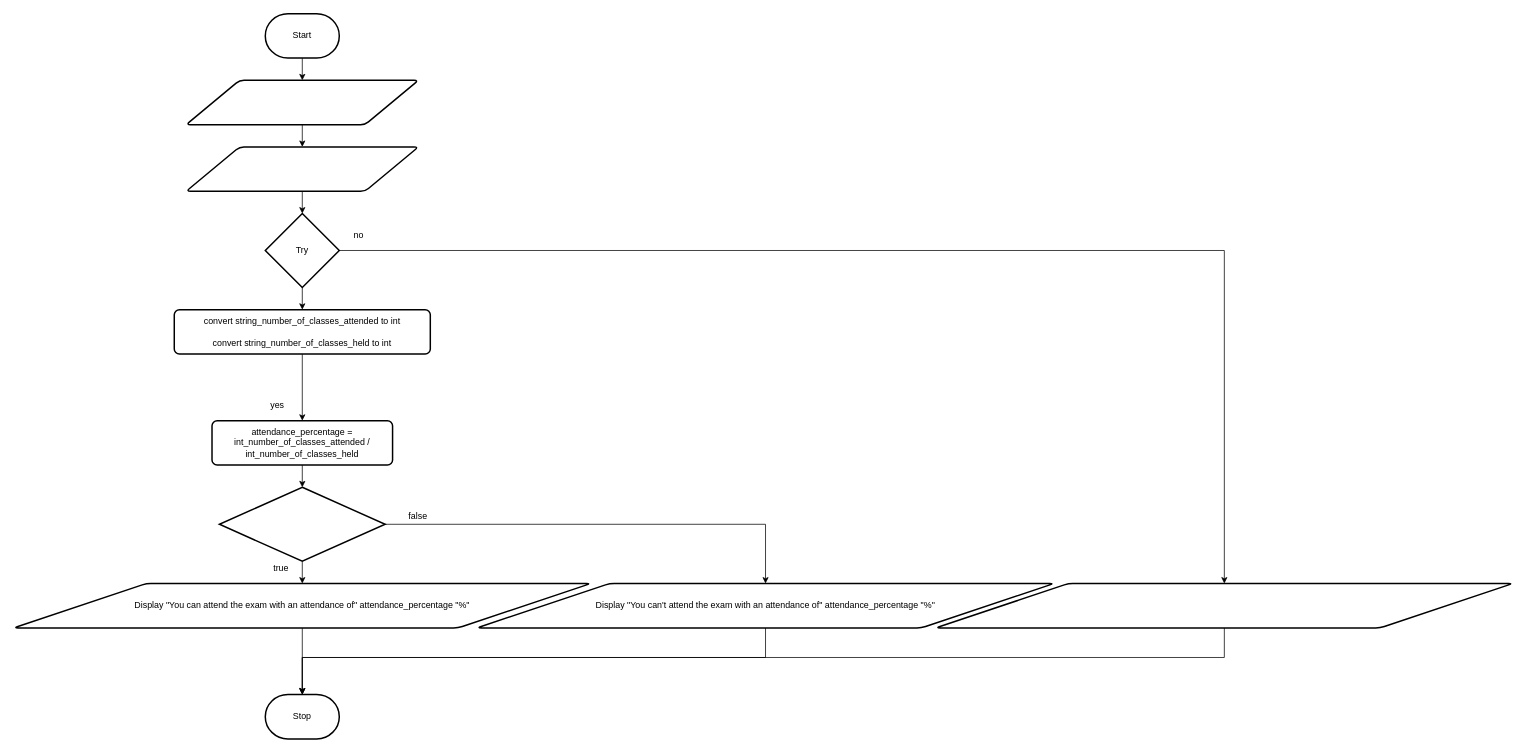
This 1526x752 diagram has some shape labels left out. Each missing label, with the centre of its shape:
Display "Please enter an integer": [1224,605]
Get string_number_of_classes_attended: [302,169]
Get string_number_of_classes_held: [302,102]
If attendance_percentage >= 75: [302,524]
